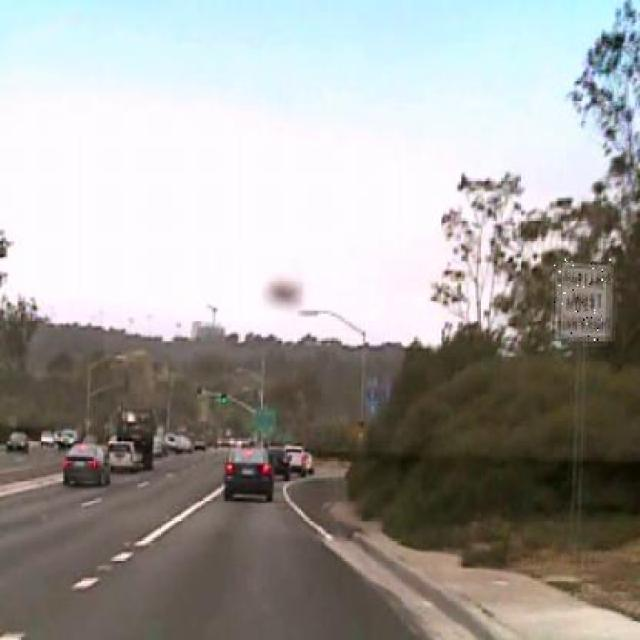rightLaneMustTurn: (554, 257, 615, 343)
